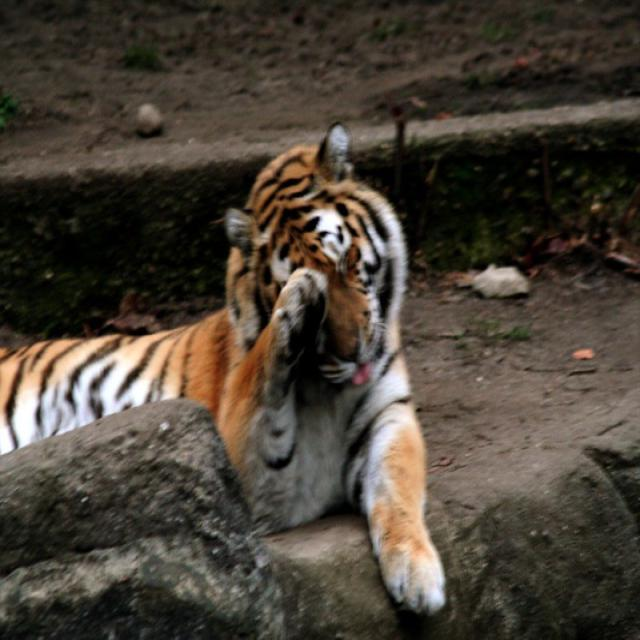Tiger: (0, 117, 449, 617)
